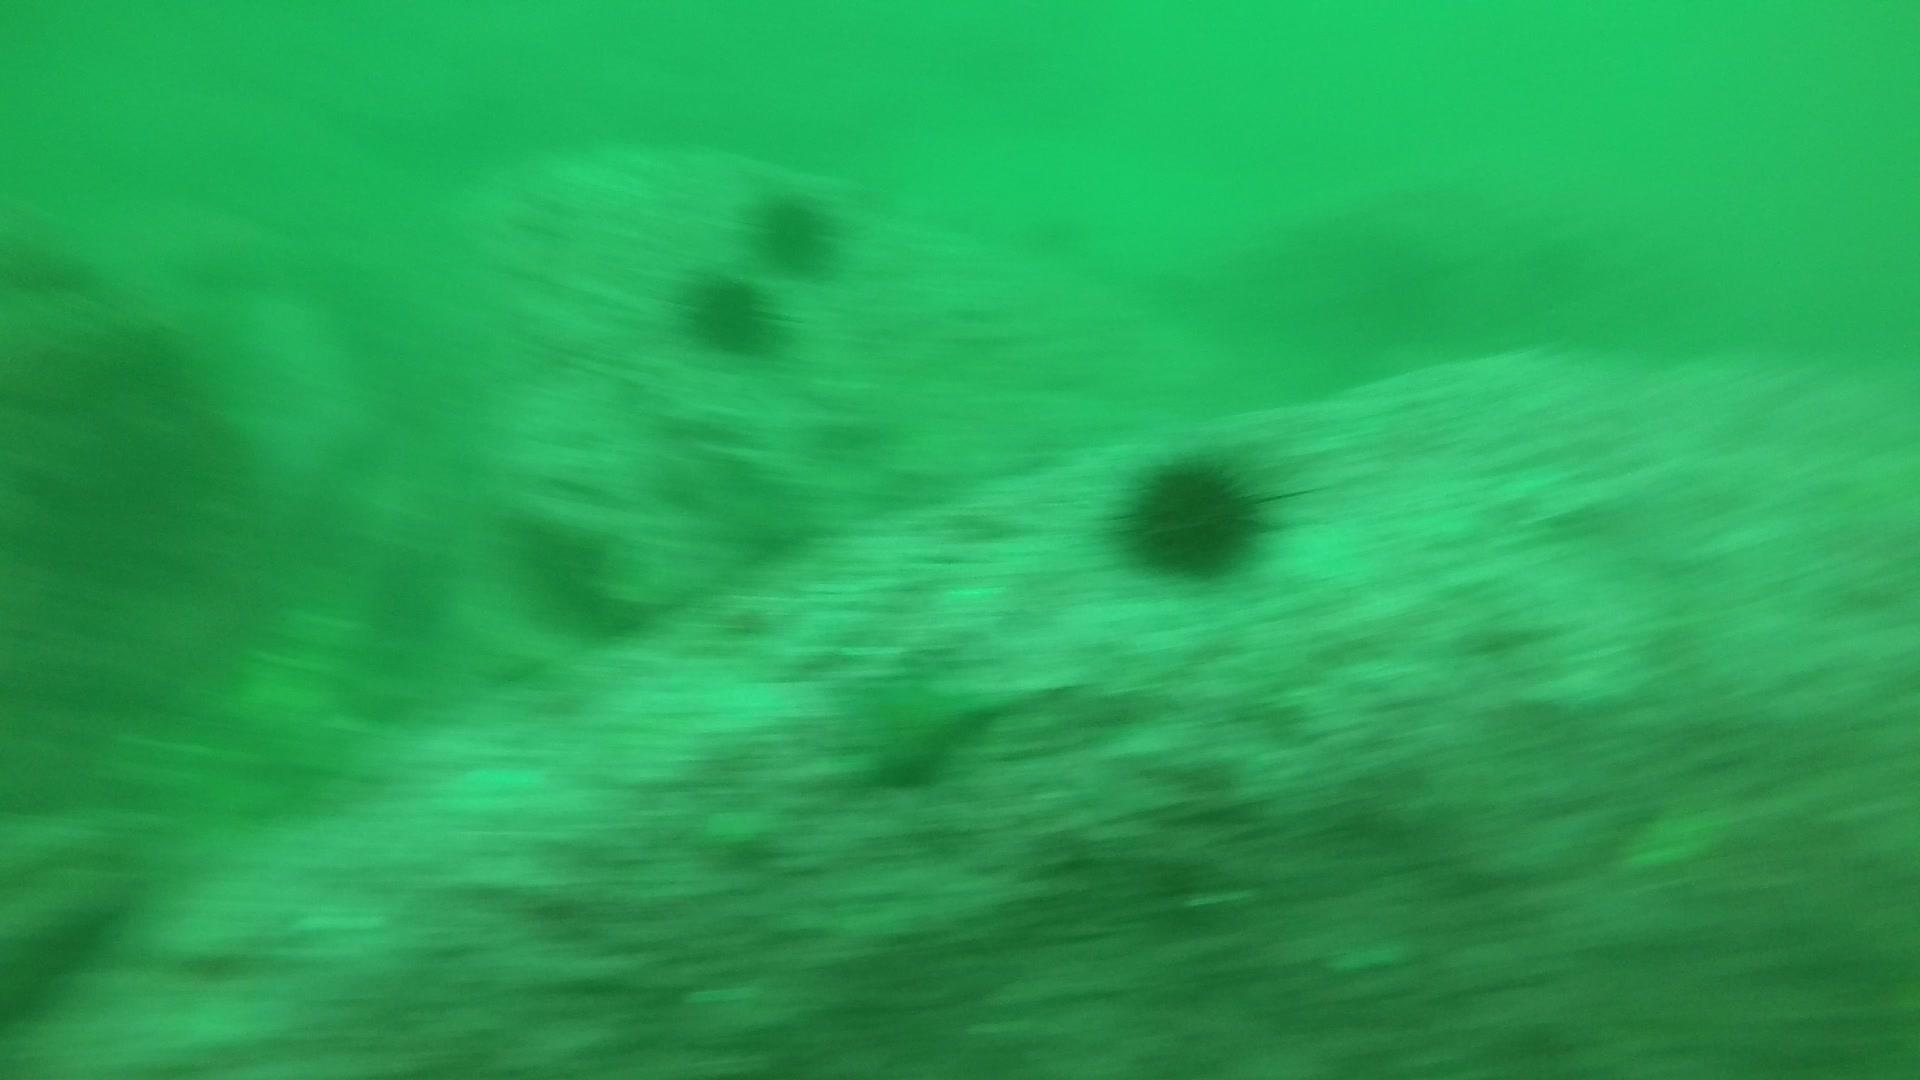echinus: (1108, 444, 1283, 585), (675, 265, 786, 361), (741, 181, 845, 280)
starfish: (843, 662, 1009, 793)
